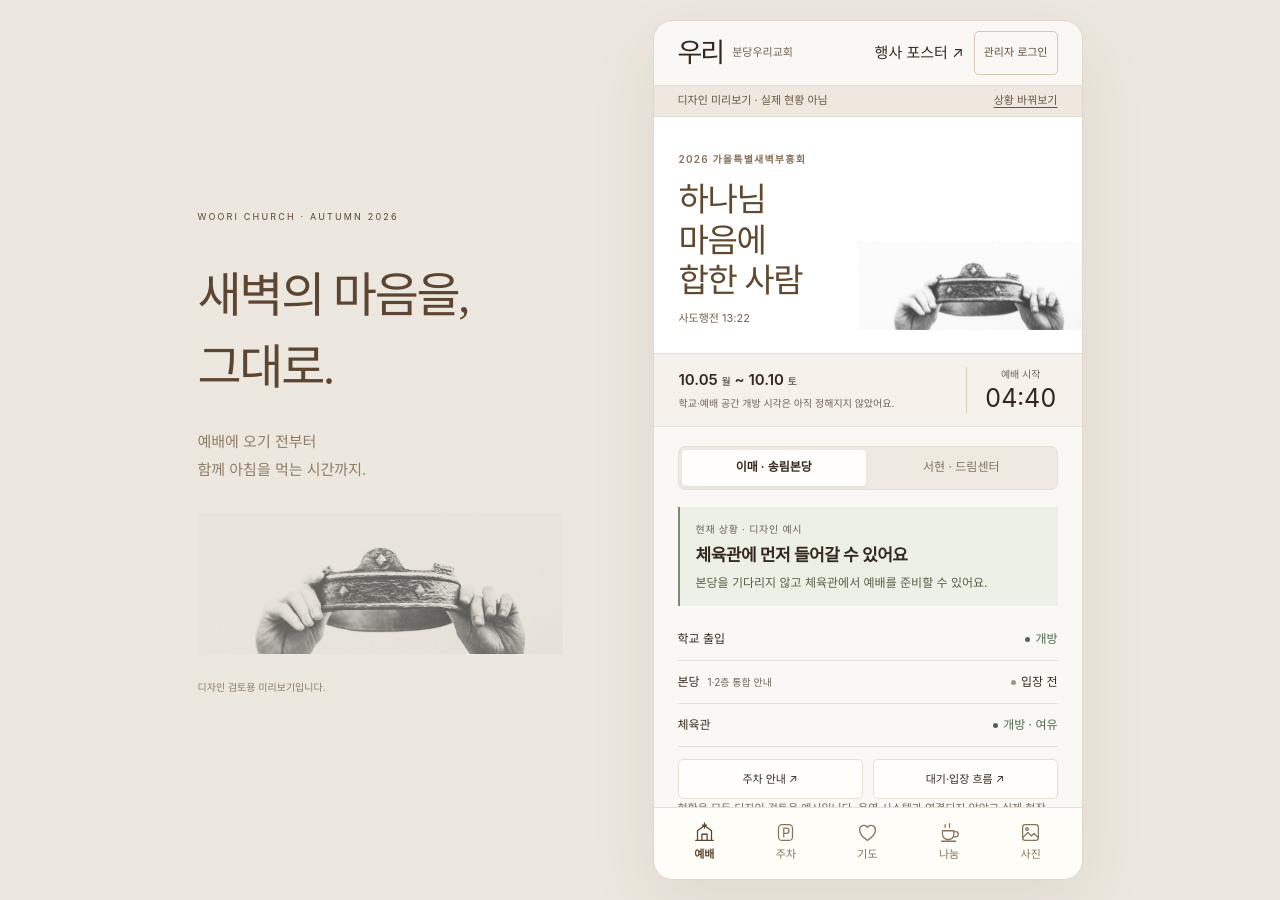
Companion independent regression review › retains a prayer draft when checking parking but shows only one accessible panel
Click the tab "기도" at (868, 842), box [827, 816, 908, 869]
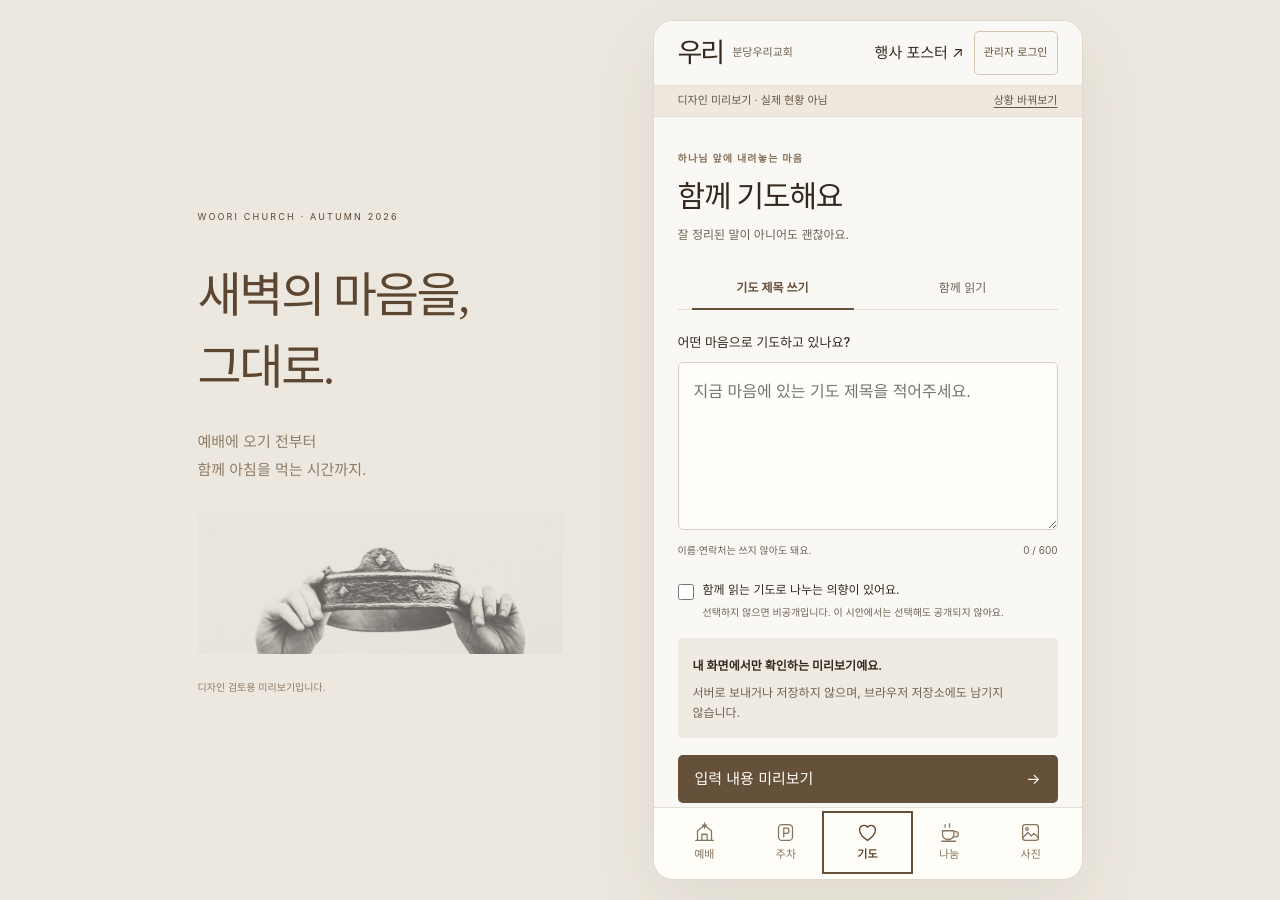
Type "입력 중인 마음" into the text box labelled "어떤 마음으로 기도하고 있나요?" at (868, 446), box [678, 362, 1058, 530]
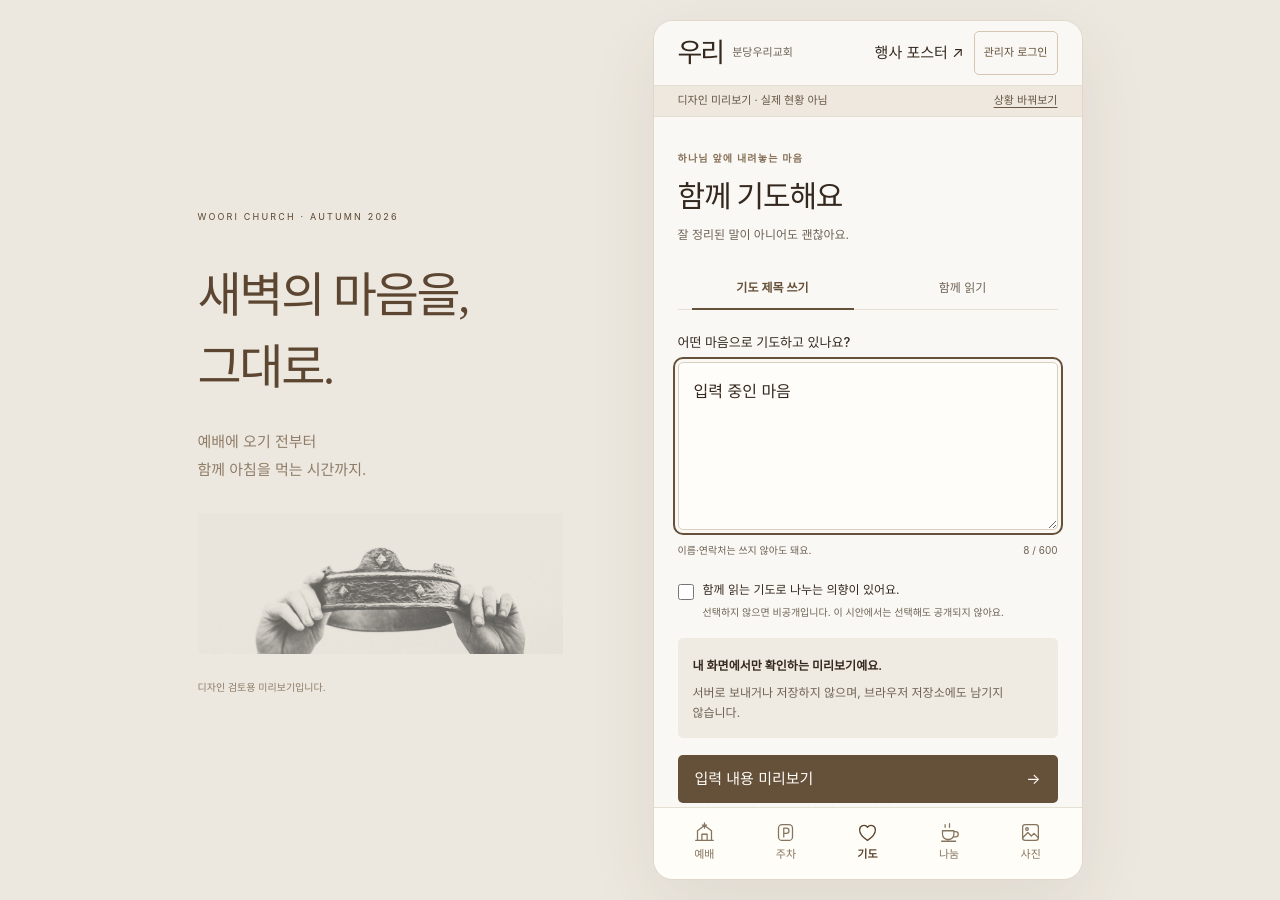
Click the tab "주차" at (786, 842), box [745, 816, 827, 869]
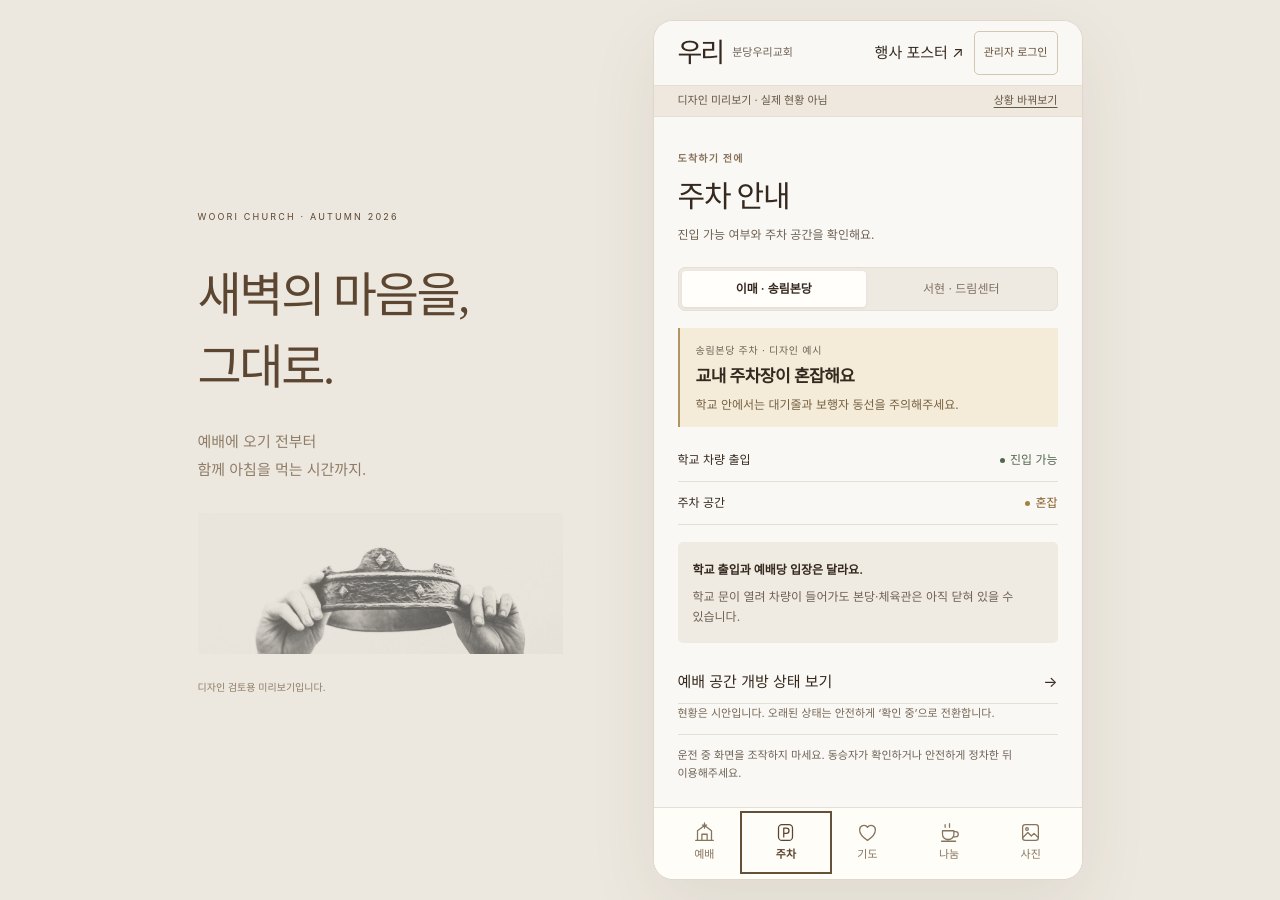
Now the number of panels is 1, box [654, 117, 1082, 806]
Click the tab "기도" at (868, 842), box [827, 816, 908, 869]
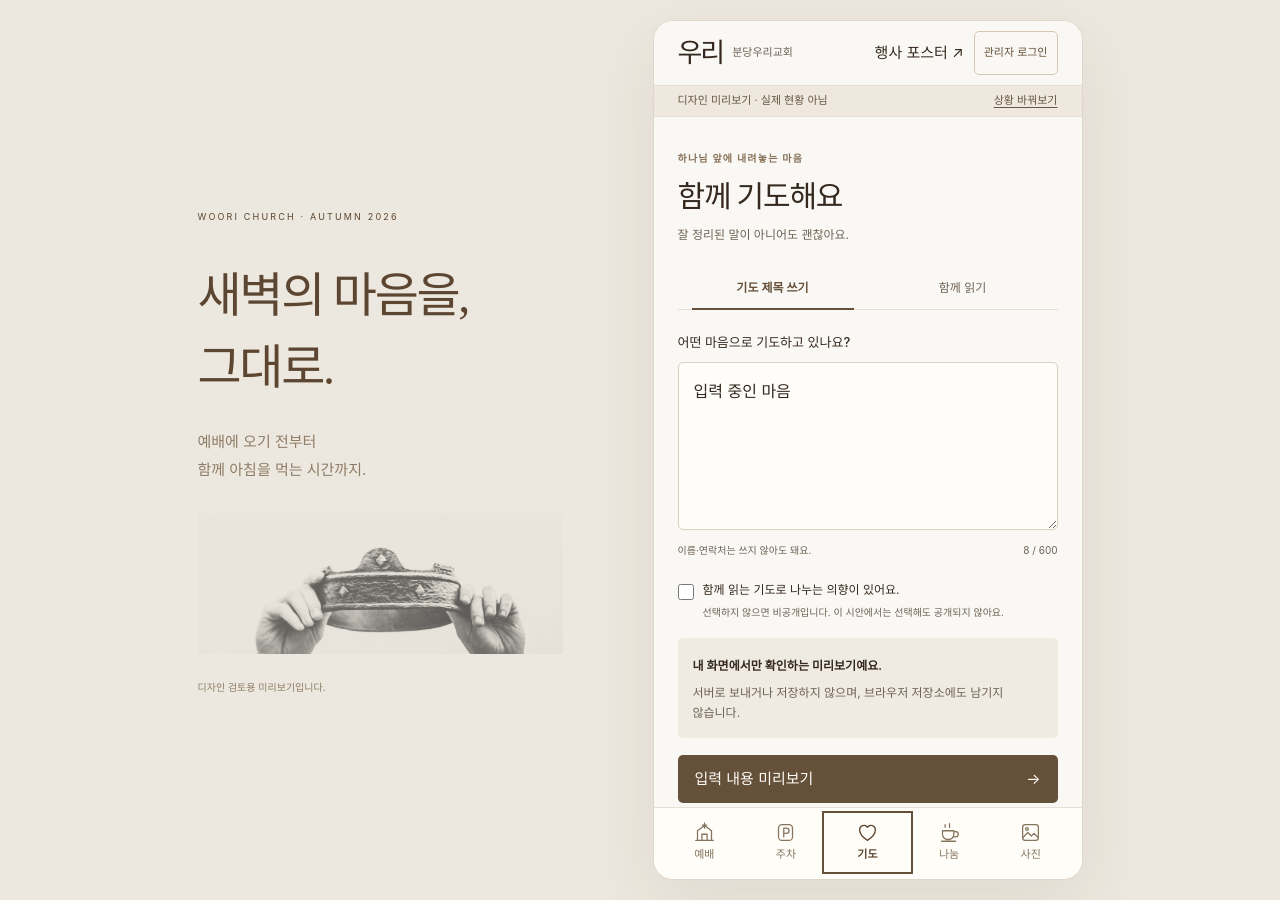
Now the number of panels is 1, box [654, 117, 1082, 807]
